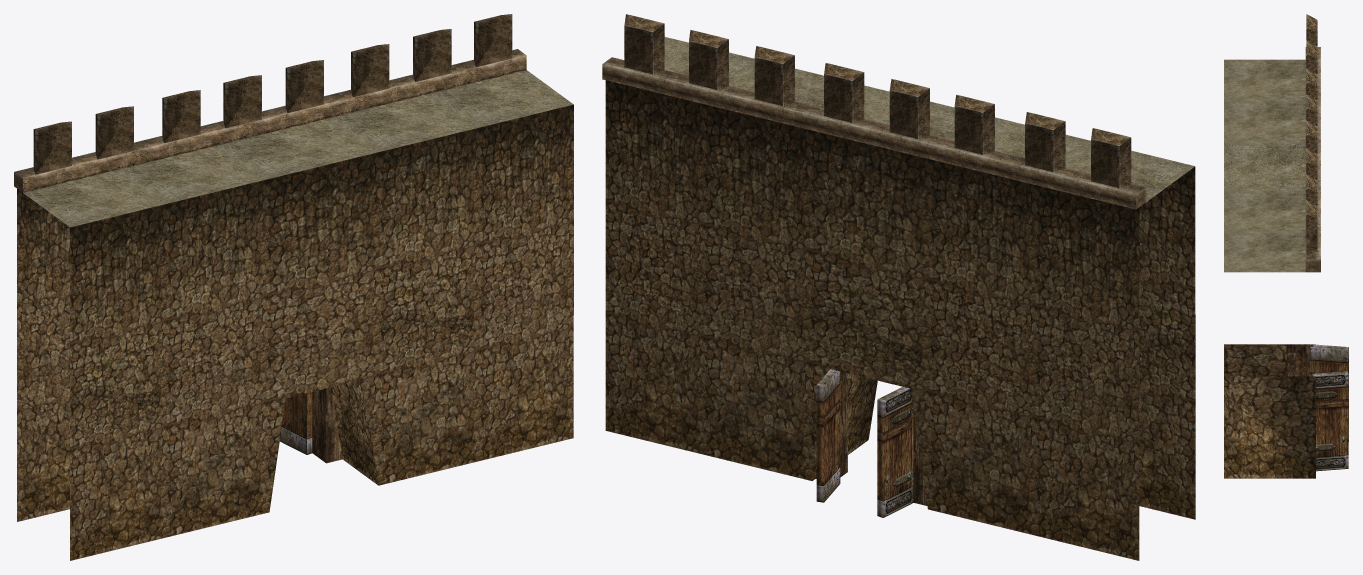
The model's file is hrt_tgate1.glb.
3 views of the same model, side by side, from view 1: azimuth 30°, elevation 25°; view 2: azimuth 150°, elevation 25°; view 3: azimuth 270°, elevation 25° (orthographic). The views are drawn at different scales.
Visible parts, largest first — view 1: hrt_tgate1-col; view 2: hrt_tgate1-col; view 3: hrt_tgate1-col.
Part boxes in pixels (bbox=[...]): hrt_tgate1-col: bbox=[14, 14, 573, 560]; hrt_tgate1-col: bbox=[602, 14, 1195, 560]; hrt_tgate1-col: bbox=[1224, 14, 1348, 478].
Size of the model in its own units: 14.48 by 10.78 by 3.59.
Materials: 12 (12 with a texture image).
